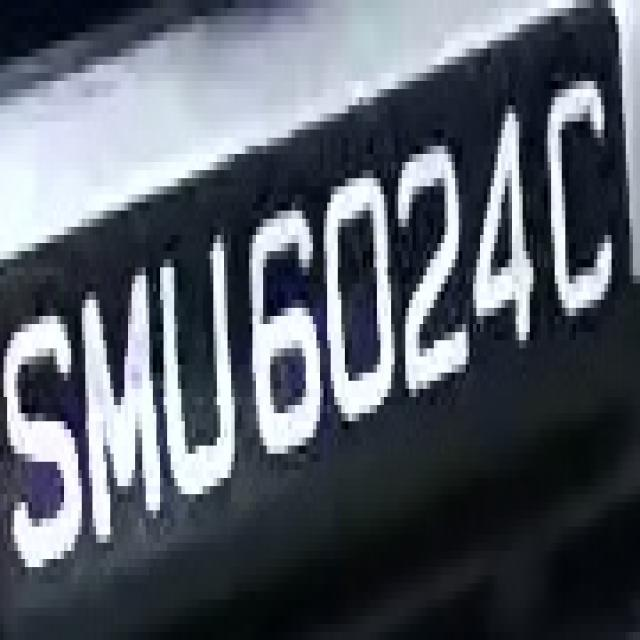0: (316, 162, 394, 462)
2: (391, 130, 480, 421)
4: (462, 89, 537, 381)
6: (235, 186, 320, 486)
C: (540, 49, 618, 348)
M: (82, 259, 164, 567)
S: (0, 267, 78, 608)
U: (153, 227, 245, 526)
